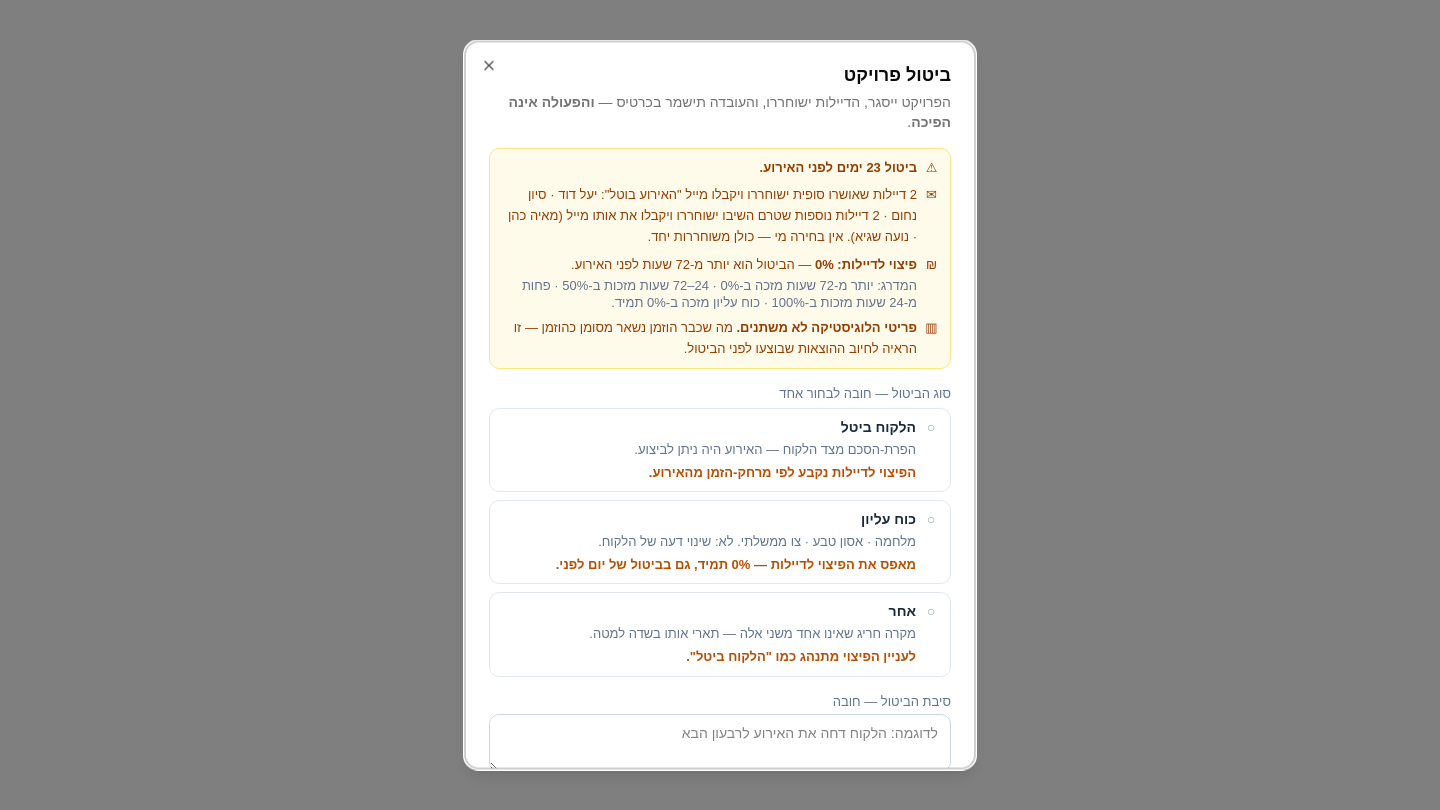
Scenario: CancelProjectDialog — האישור, המיילים והסירובים › סירוב "האירוע כבר התקיים" מוצג כלשונו (as-built ④)
The image size is (1440, 810).
Step 1. Click the radio button with test id "cancel-type-customer" → (720, 450), box [489,407,951,492]
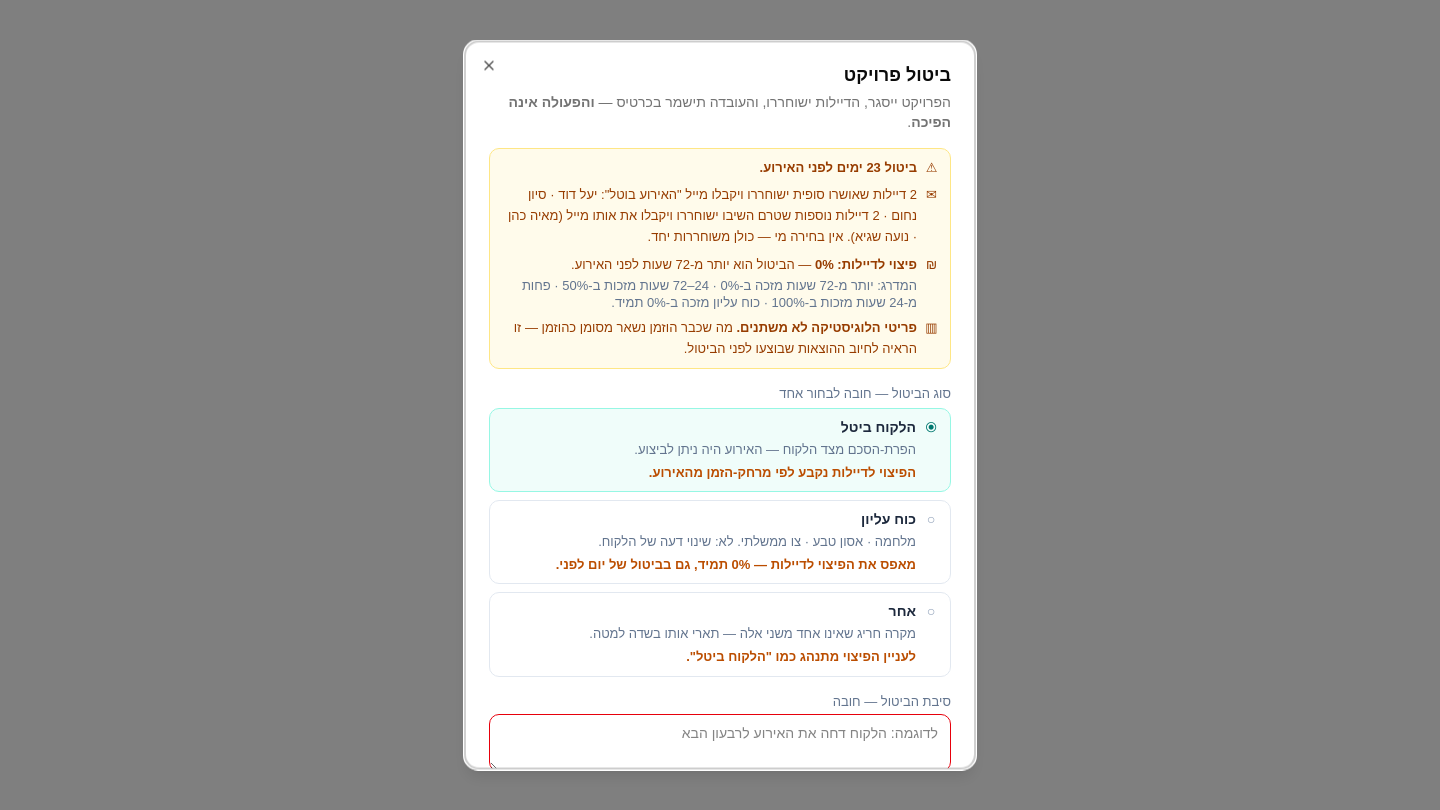
Step 2. Type "הלקוח דחה את האירוע לרבעון הבא" into the text box with test id "cancel-reason" → (720, 742), box [489,713,951,771]
(page scrolled)
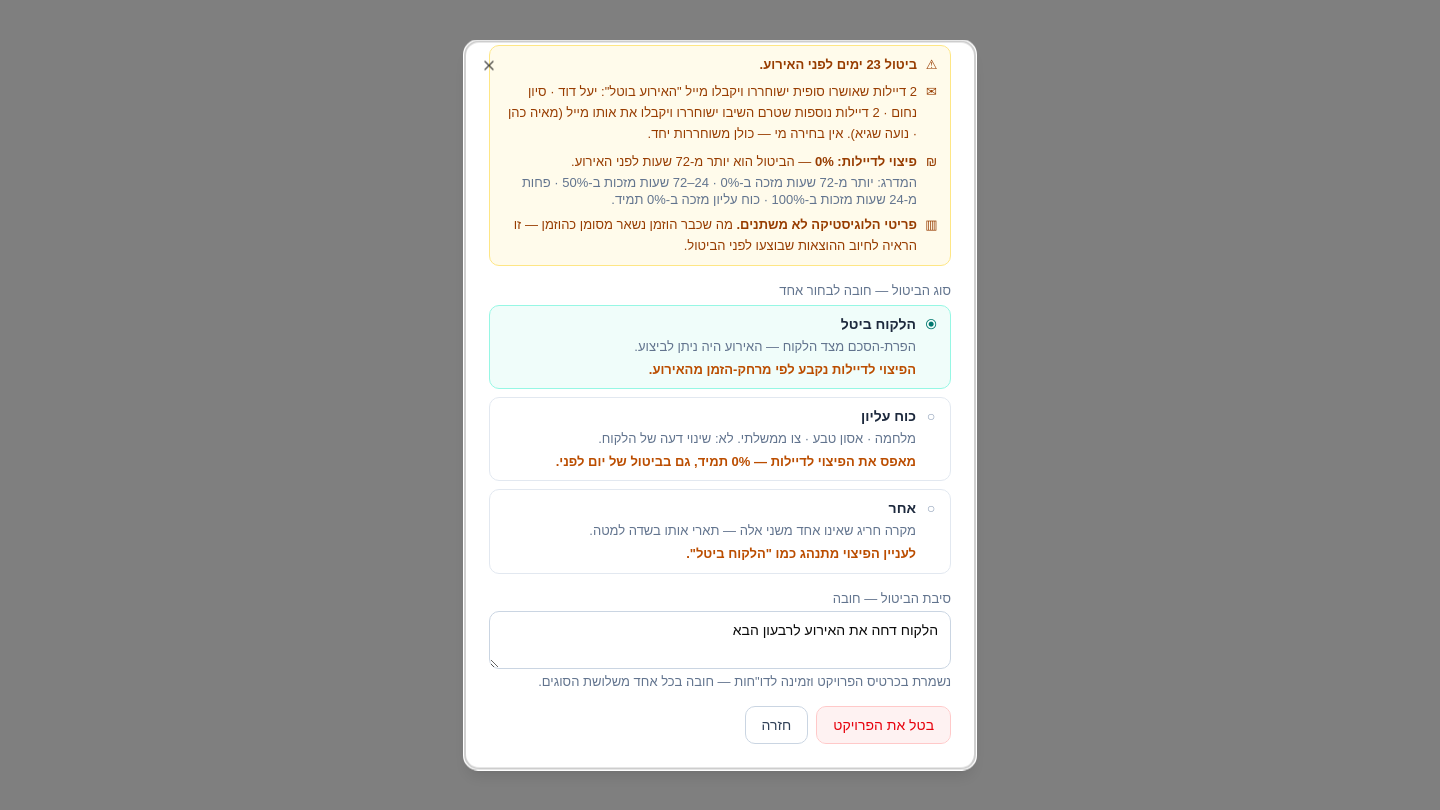
Step 3. Click the button with test id "cancel-confirm" → (884, 726), box [816,707,951,745]
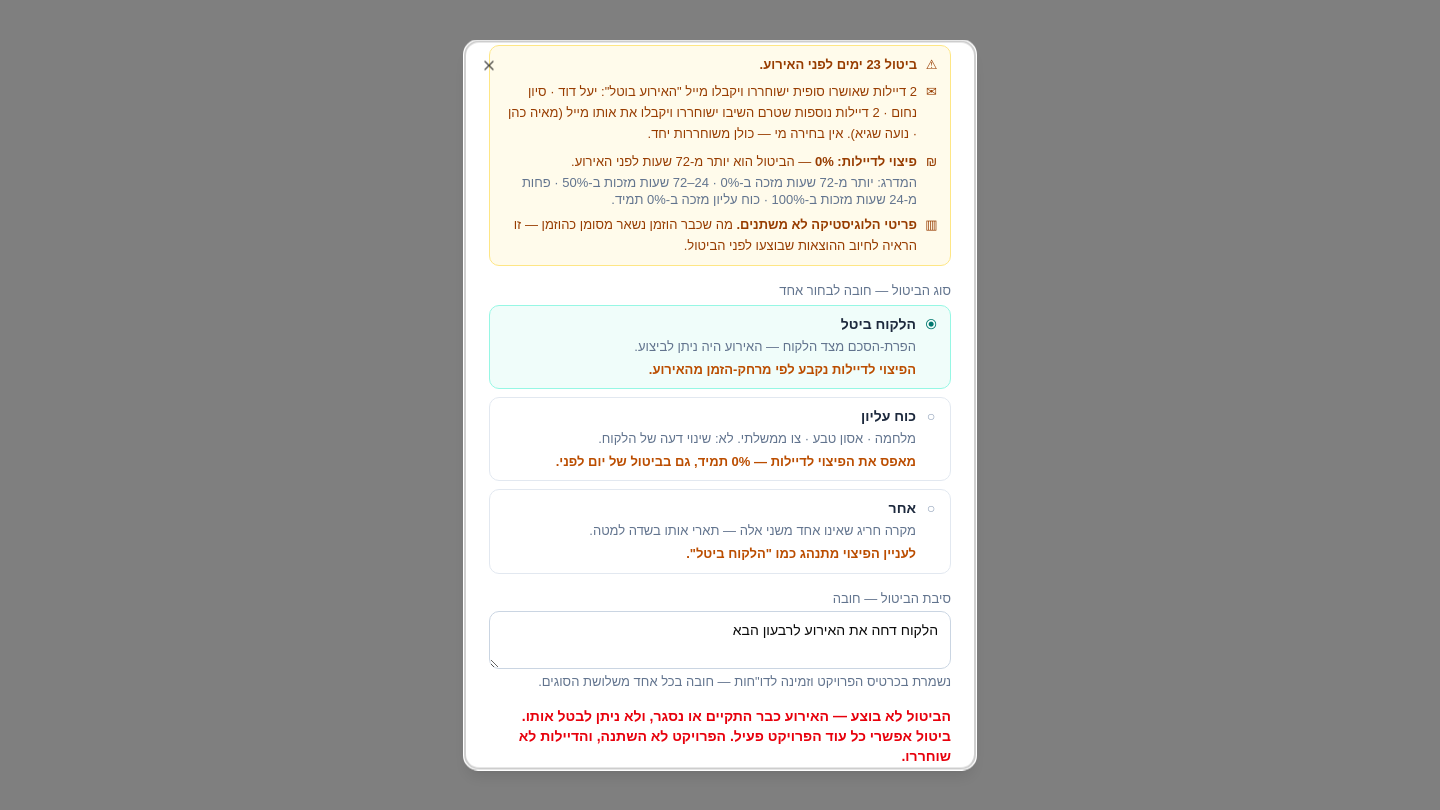
Expected: the message with test id "cancel-server-error" shows "האירוע כבר התקיים או נסגר, ולא ניתן לבטל אותו. ביטול אפשרי כל עוד הפרויקט פעיל.", [519,709,951,765]
